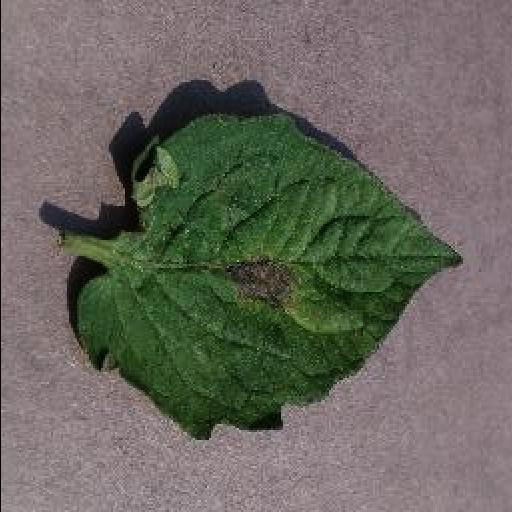disease_tomato: (72, 110, 462, 440)
